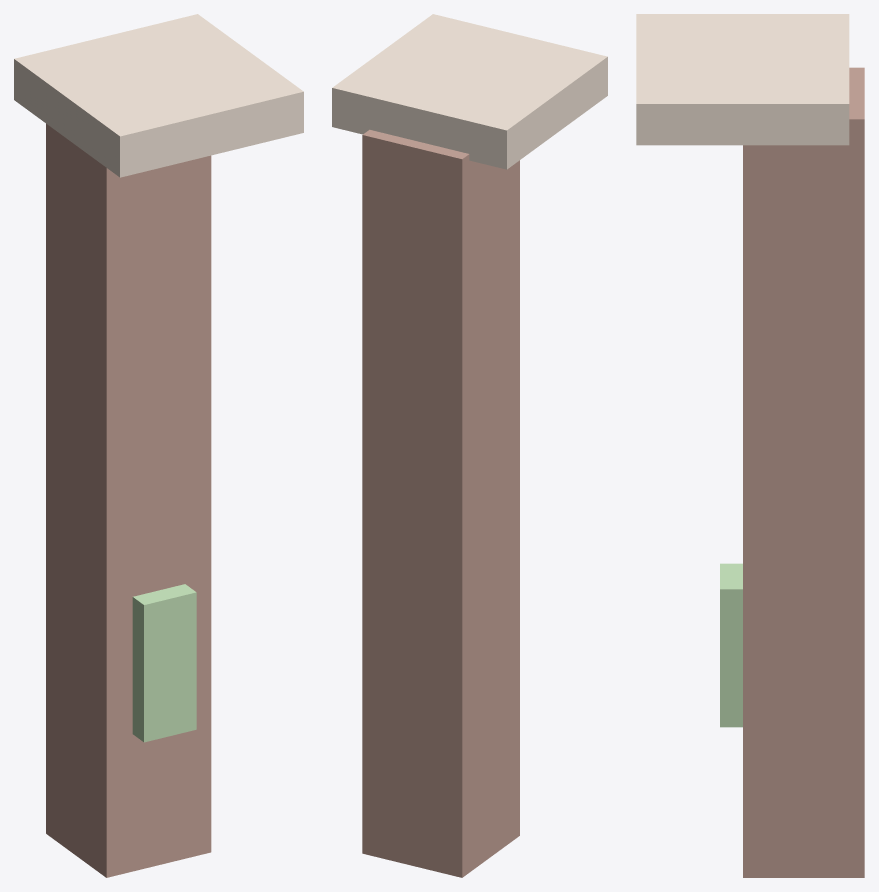
File: perch-post.glb
3 renders of one model, left to right at view 1: azimuth 30°, elevation 25°; view 2: azimuth 150°, elevation 25°; view 3: azimuth 270°, elevation 25°, orthographic. The views are drawn at different scales.
Visible parts, largest first — view 1: Post, Platform; view 2: Post, Platform; view 3: Post, Platform.
Part boxes in pixels (x1,y1,x2,y2): Post: (46,123,211,877); Platform: (14,14,303,177); Post: (362,129,519,877); Platform: (332,14,607,169); Post: (720,67,864,877); Platform: (636,14,849,145).
Bounding box in the file's own units: 0.28 × 1.15 × 0.3.
